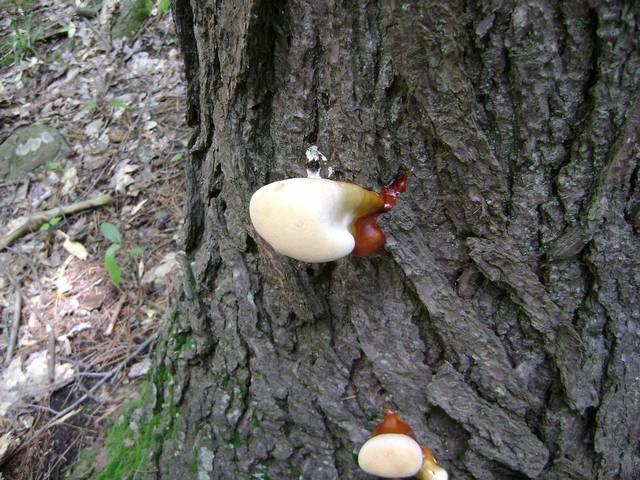Non-edible Mushroom: (247, 168, 410, 265), (359, 410, 448, 480)
